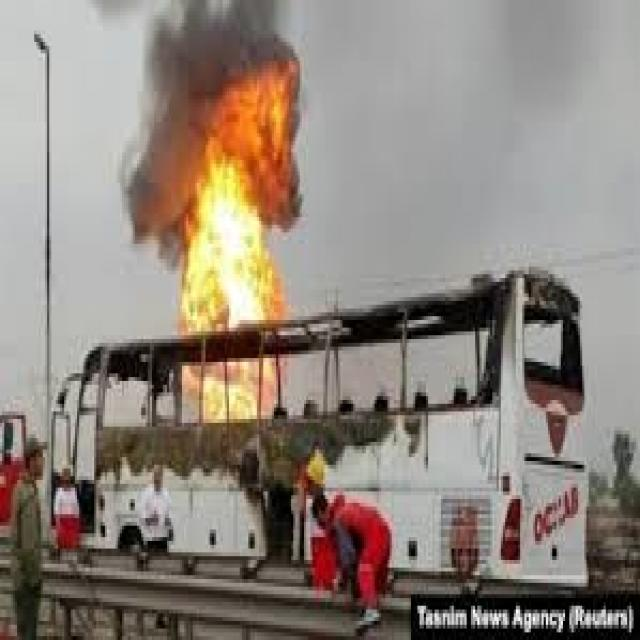fire: (175, 164, 289, 328), (180, 358, 284, 423)
smoke: (96, 4, 308, 248)
